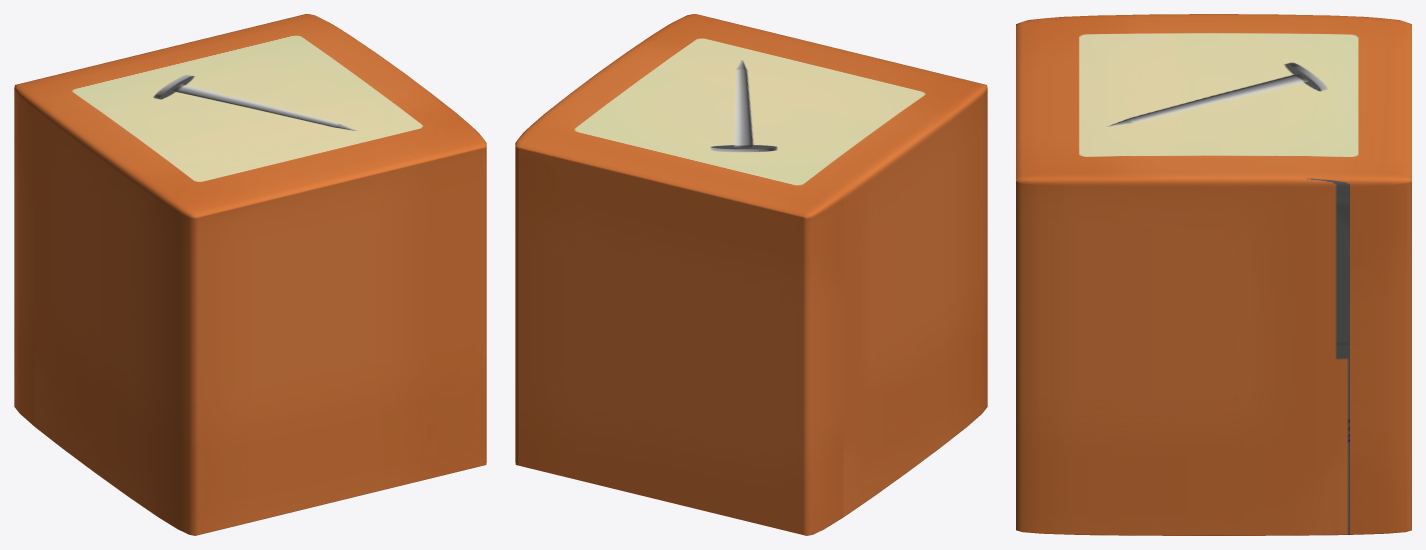
The model's file is tapoo_box.fbx.
3 renders of one model, left to right at view 1: azimuth 30°, elevation 25°; view 2: azimuth 150°, elevation 25°; view 3: azimuth 270°, elevation 25°, orthographic. The views are drawn at different scales.
Parts seen in each view (by area): view 1: pCube1; view 2: pCube1; view 3: pCube1.
Boxes of the visible parts, left/top/right/bottom form: pCube1: left=14, top=14, right=486, bottom=535; pCube1: left=515, top=14, right=987, bottom=535; pCube1: left=1016, top=14, right=1411, bottom=535.
Size of the model in its own units: 0.9972 by 0.999 by 1.
